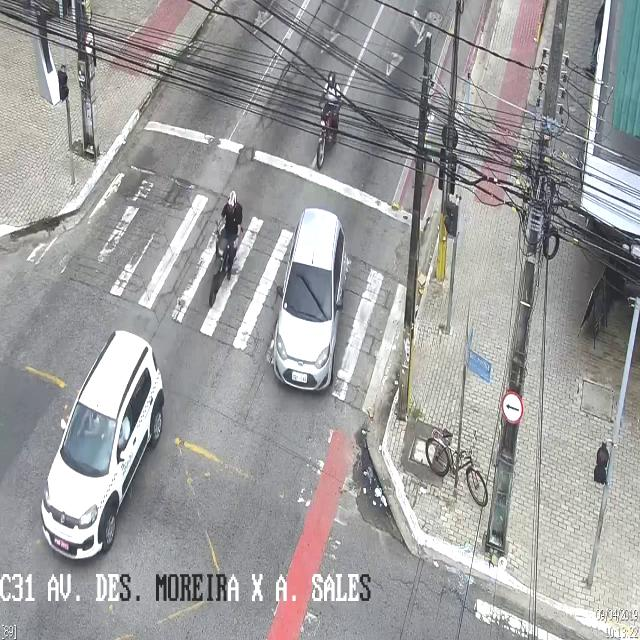Car: (41, 330, 163, 558), (274, 208, 344, 389)
Motorcycle: (209, 191, 243, 305), (315, 70, 343, 174)
